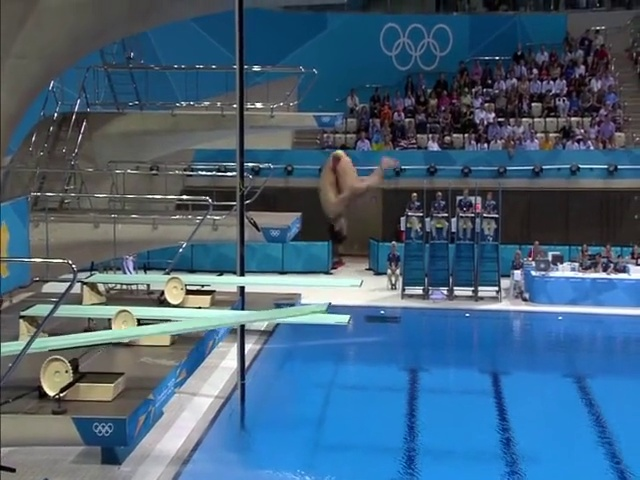diver: (316, 148, 399, 244)
